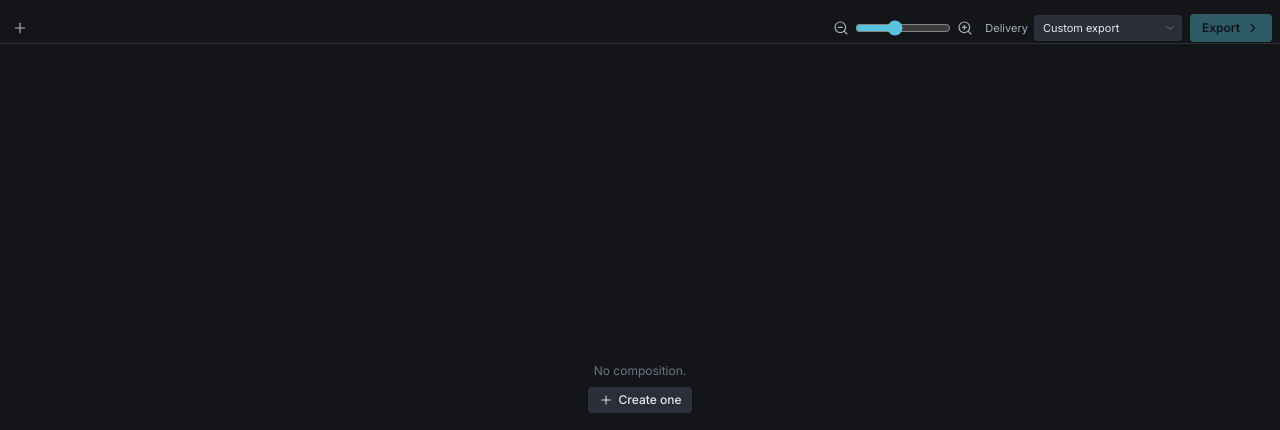
Test case: TimelinePanel › offers to create one when there are no compositions
Click the button "Create one". click: x=640, y=400
box: left=588, top=387, right=692, bottom=413
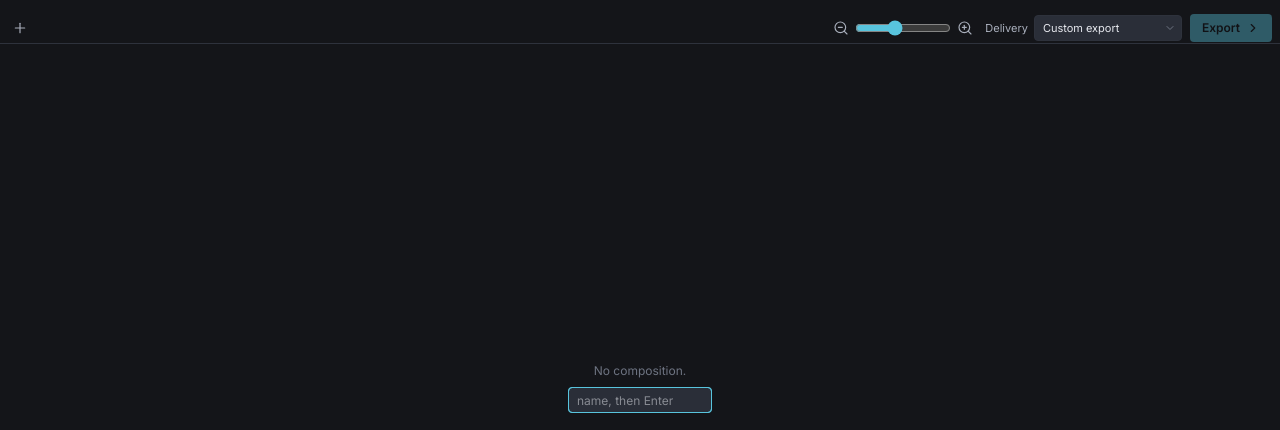
Check: the field named "New composition name" is shown, box left=568, top=387, right=712, bottom=413
